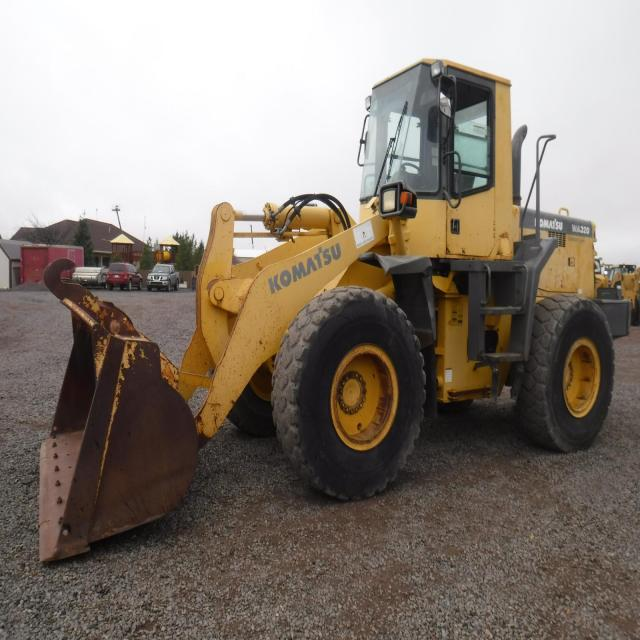buldozerpayloadergrader: (33, 50, 636, 562)
